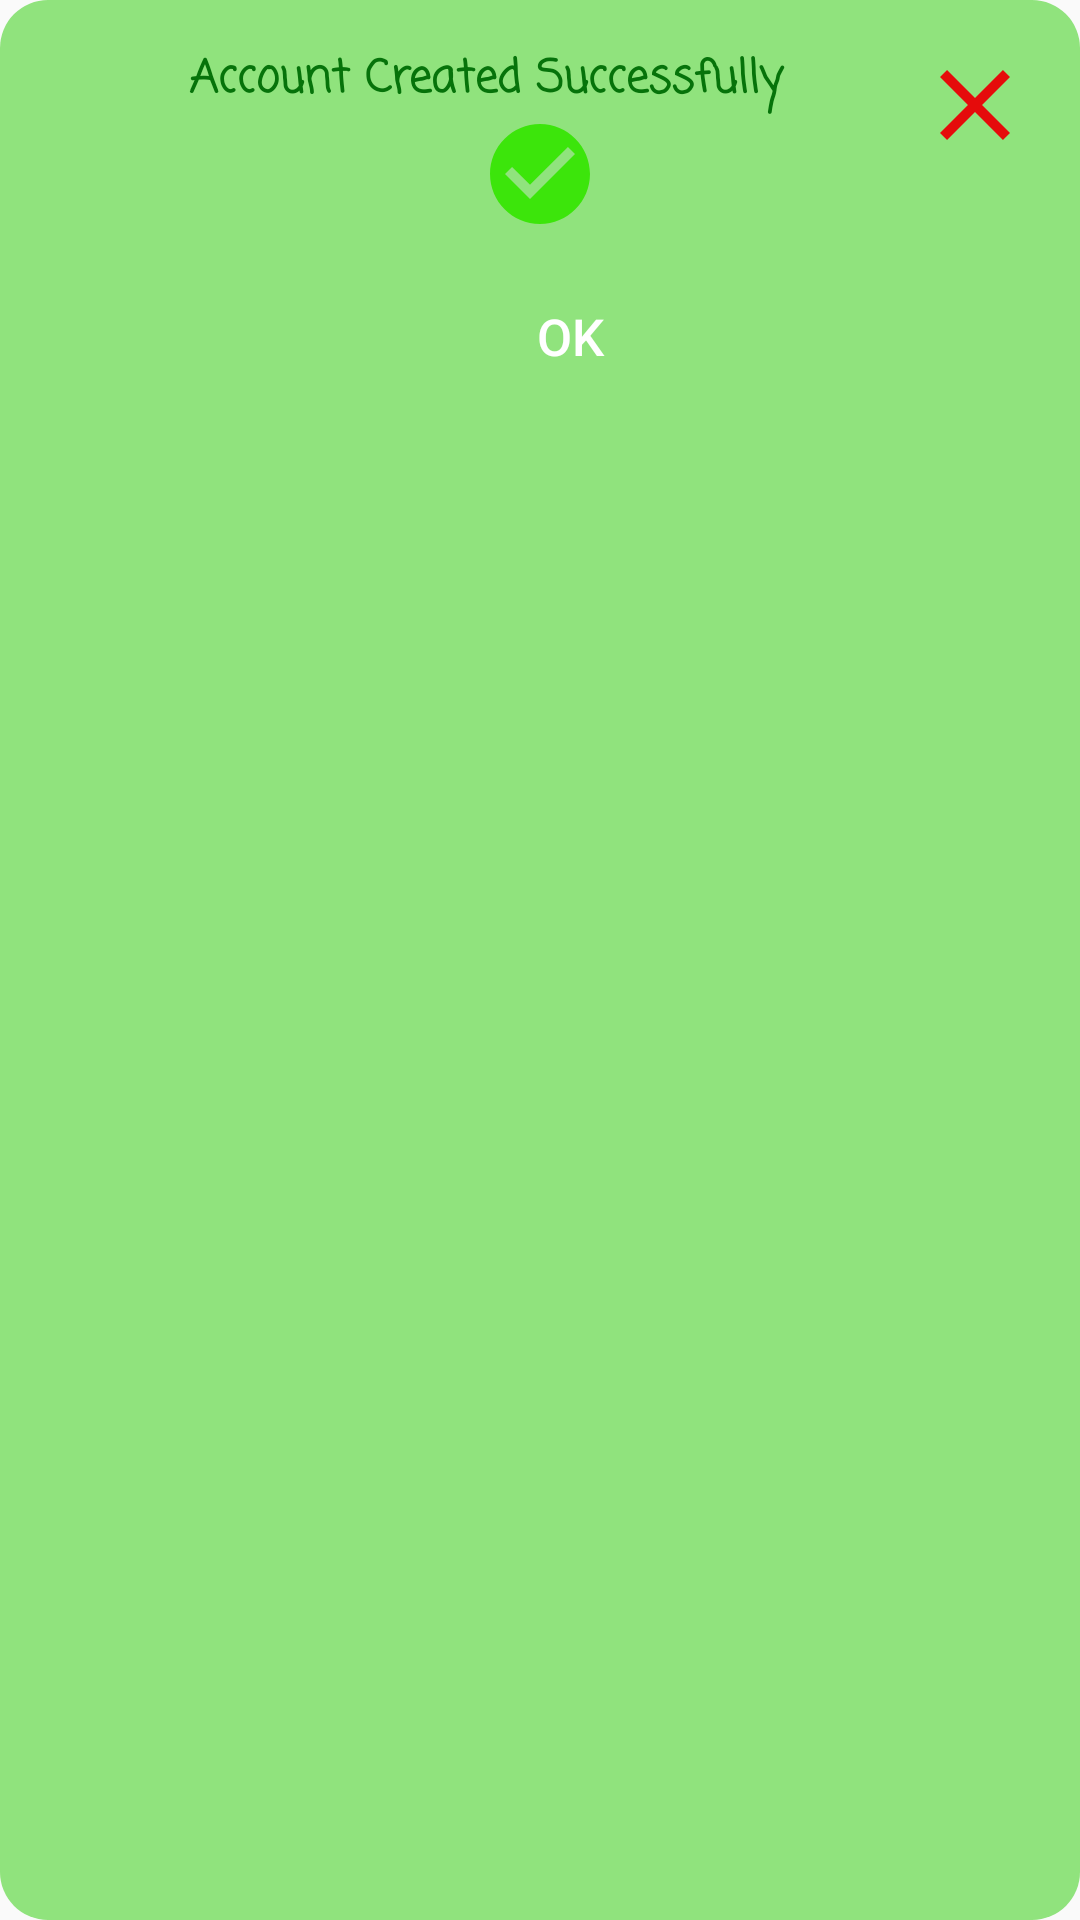

Icons on this 1080w x 1920h Android screen, each with the point to tap as point (x, y):
closered: point (975, 105)
greentick: point (540, 174)
